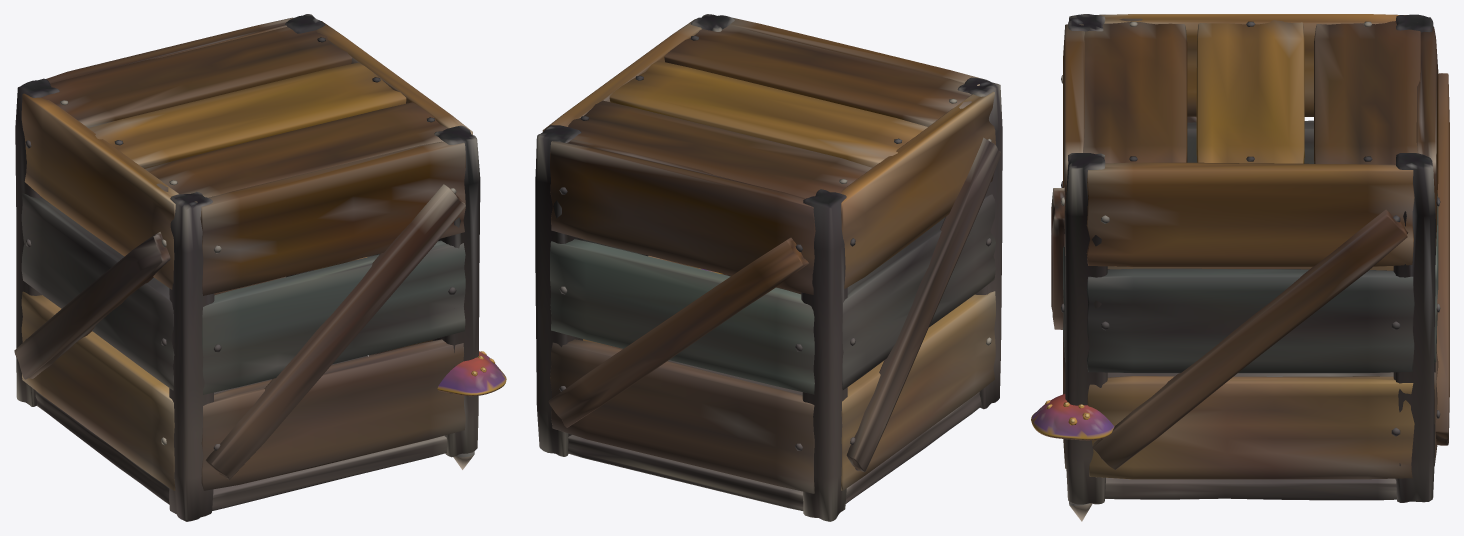
Rendered from kasa.glb.
The picture shows the model from 3 angles, left to right: view 1: azimuth 30°, elevation 25°; view 2: azimuth 150°, elevation 25°; view 3: azimuth 270°, elevation 25°; orthographic projection. The views are drawn at different scales.
Visible parts, largest first — view 1: kasa_LOD0; view 2: kasa_LOD0; view 3: kasa_LOD0.
Boxes of the visible parts, <box> form: kasa_LOD0: <box>14,14,506,521</box>; kasa_LOD0: <box>535,14,1002,521</box>; kasa_LOD0: <box>1031,14,1449,521</box>.
Size of what is drawn, in the model's own units: 0.8789 by 0.85 by 0.8934.
